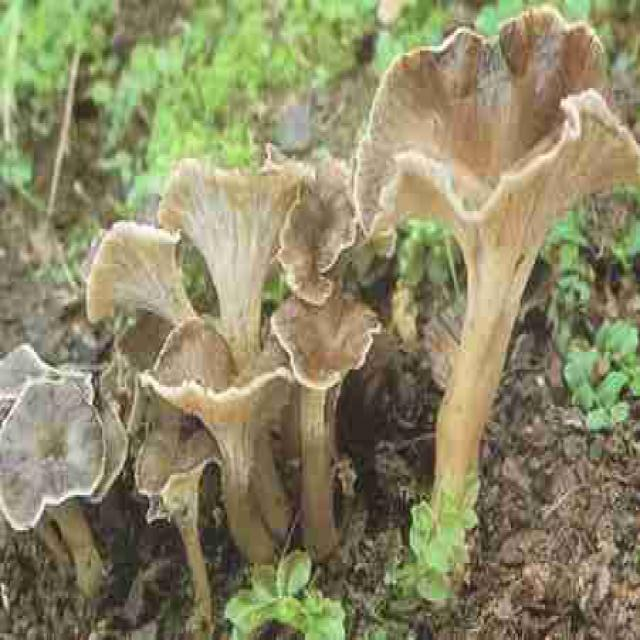Cantharellus cibarius: (354, 13, 640, 520), (274, 145, 378, 556), (148, 325, 291, 558), (1, 343, 124, 593), (157, 153, 312, 325), (134, 429, 221, 605), (87, 217, 202, 324)
